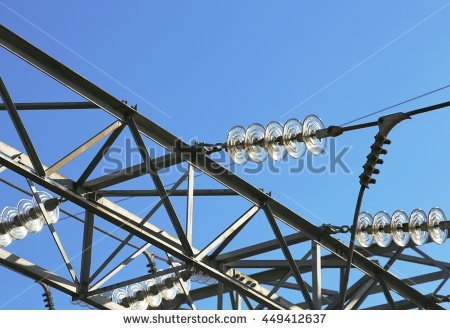isolator: (226, 113, 328, 165), (353, 206, 448, 248), (111, 262, 191, 309), (1, 190, 60, 247)
